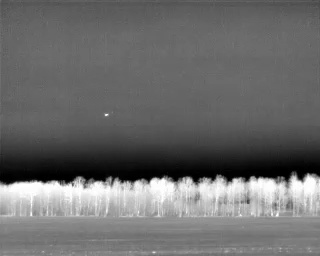DRONE: (101, 109, 112, 120)
